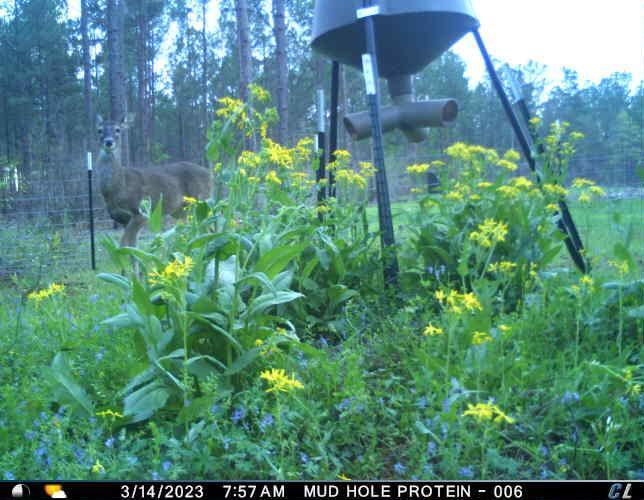Deer: (94, 111, 216, 251)
